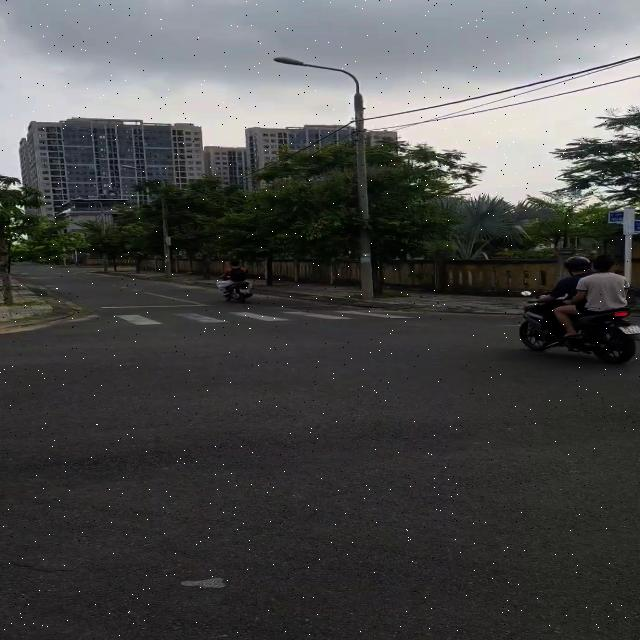helmet: (563, 256, 591, 280)
no_helmet: (591, 252, 622, 274)
